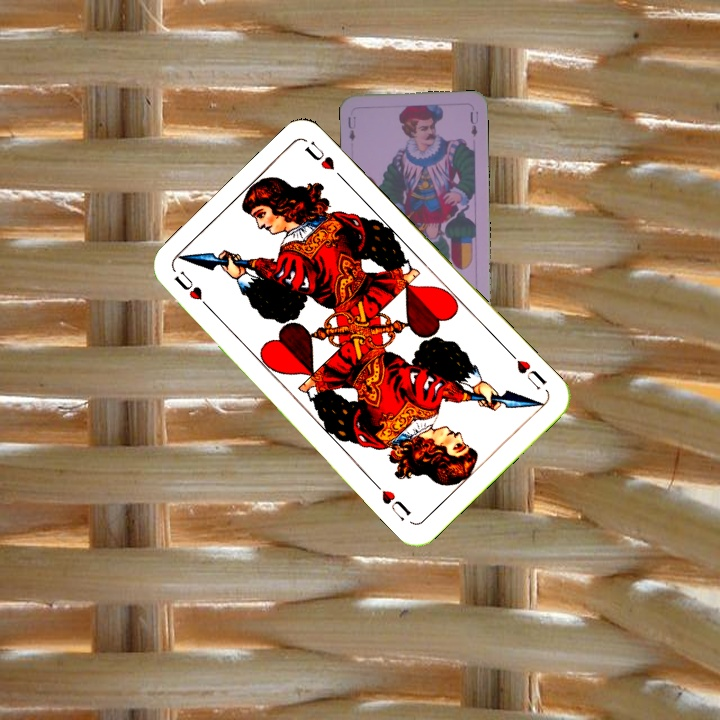EU: (344, 113, 359, 144)
HU: (170, 266, 215, 314), (505, 348, 550, 393)
